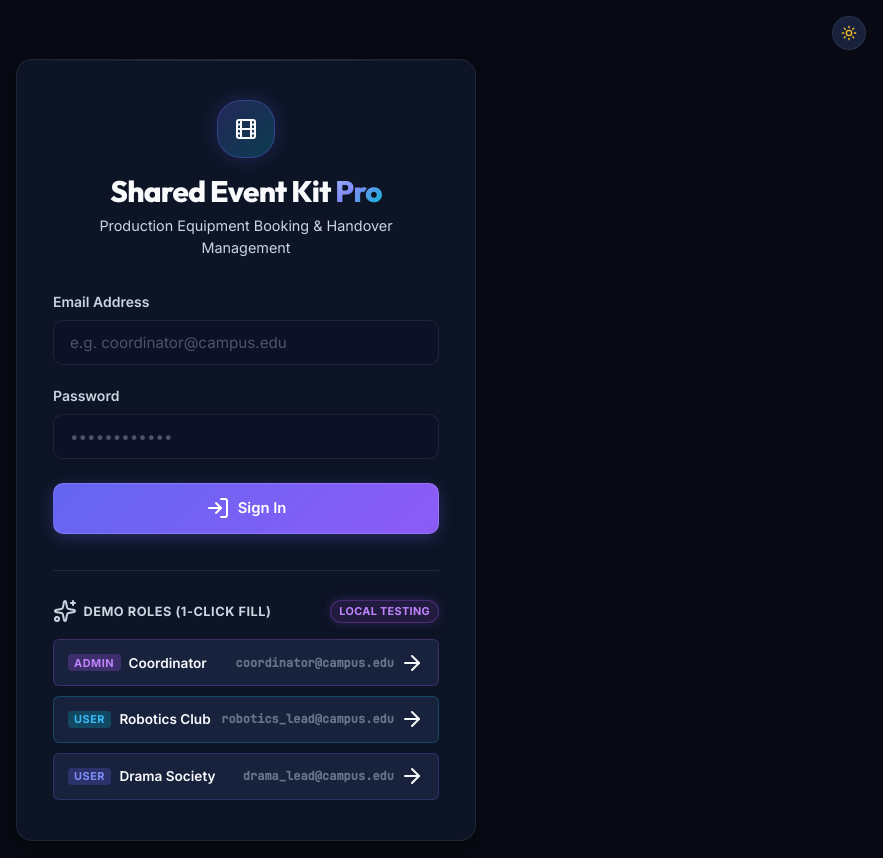
it: Milestone 5: Frontend UI & Interactive Workflows › LoginPage & Demo Credentials › renders login form and fills demo credentials on button click
The image size is (883, 858).
Expected: the heading "Shared Event Kit Pro" is shown, left=110, top=172, right=382, bottom=210
Note: Click Coordinator demo button
What coordinates should you click on to do the following:
click the text "Coordinator"
I would click on:
 (168, 663)
Its box is left=128, top=655, right=207, bottom=671.
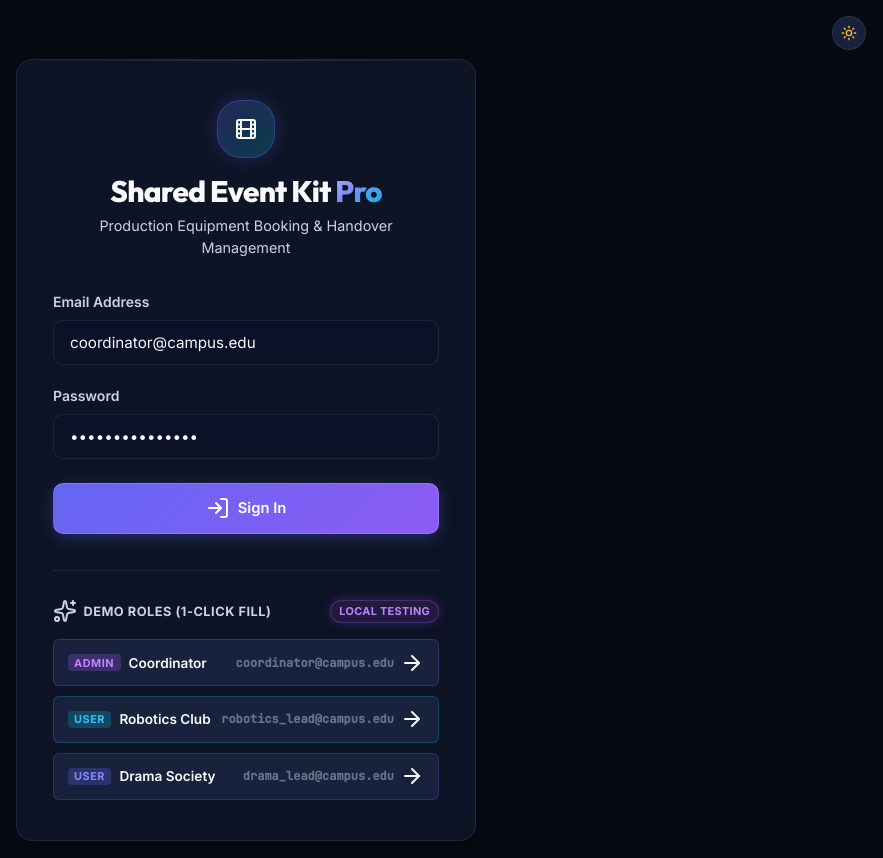
Result: the field with placeholder "e.g. coordinator@campus.edu" holds "coordinator@campus.edu" at left=53, top=320, right=439, bottom=365
Result: the password field with placeholder "••••••••••••" holds "Coordinator123!" at left=53, top=414, right=439, bottom=459
Note: Click Robotics demo button
What coordinates should you click on to do the following:
click the text "Robotics Club"
I would click on:
 (165, 720)
Its box is left=119, top=712, right=211, bottom=728.
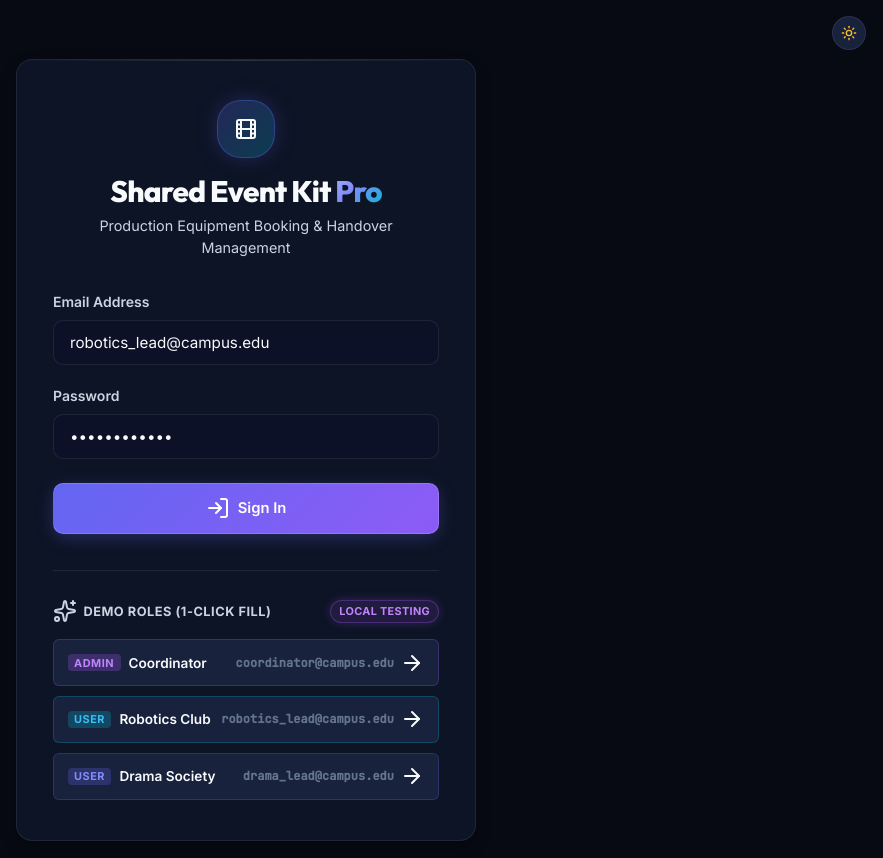
Result: the field with placeholder "e.g. coordinator@campus.edu" holds "robotics_lead@campus.edu" at left=53, top=320, right=439, bottom=365
Result: the password field with placeholder "••••••••••••" holds "ClubPass123!" at left=53, top=414, right=439, bottom=459
